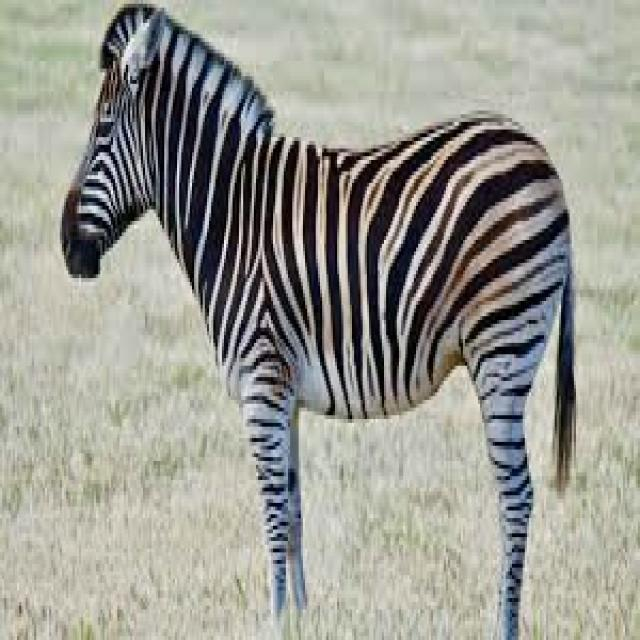zebra: (60, 4, 574, 636)
